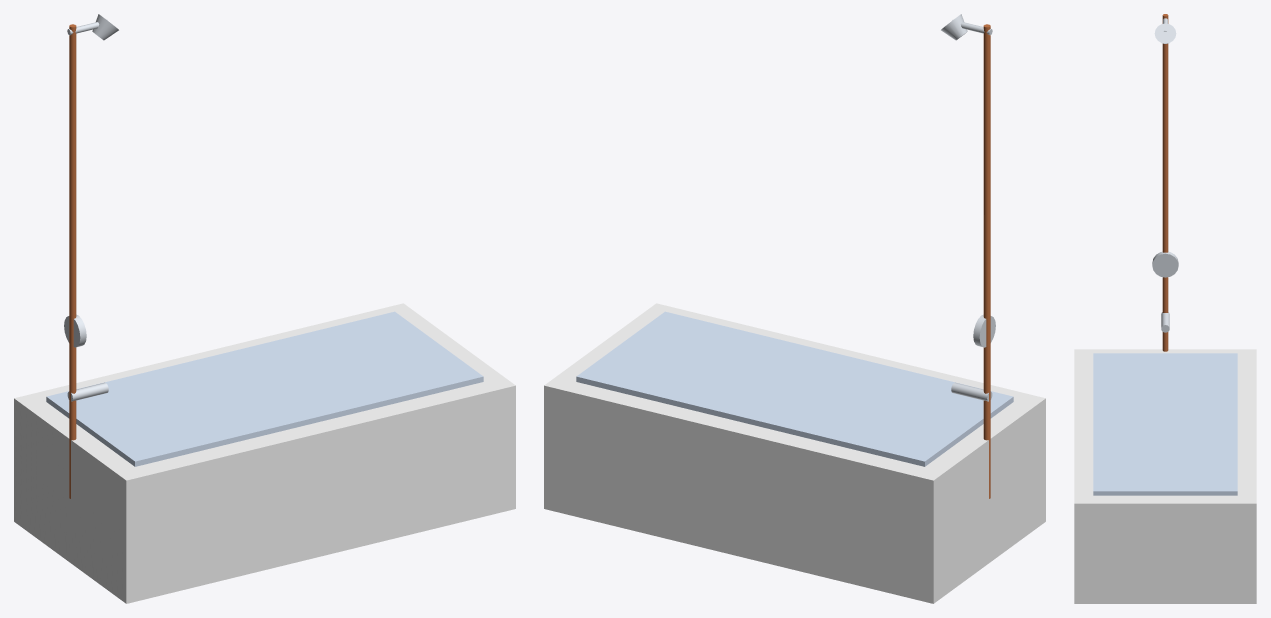
The model's file is fixture-tub-shower-combo.glb.
3 views of the same model, side by side, from view 1: azimuth 30°, elevation 25°; view 2: azimuth 150°, elevation 25°; view 3: azimuth 270°, elevation 25° (orthographic). The views are drawn at different scales.
Visible parts, largest first — view 1: plumbing-fixture-tub-shower-combo; view 2: plumbing-fixture-tub-shower-combo; view 3: plumbing-fixture-tub-shower-combo.
Part boxes in pixels (box(x1,y1,x2,y2)): plumbing-fixture-tub-shower-combo: box(14, 14, 515, 603); plumbing-fixture-tub-shower-combo: box(544, 14, 1045, 603); plumbing-fixture-tub-shower-combo: box(1074, 14, 1256, 603).
Bounding box in the file's own units: 1.52 × 2.01 × 0.76.
